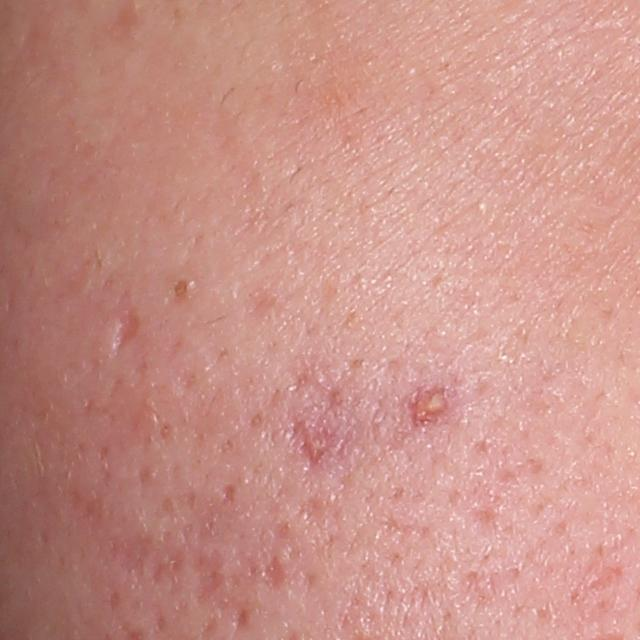atrophic_scar: (108, 520, 188, 596), (181, 518, 227, 603), (112, 294, 145, 359), (264, 554, 289, 592), (220, 478, 242, 506)
comedo: (165, 274, 199, 307)
pustule: (409, 388, 446, 424)
